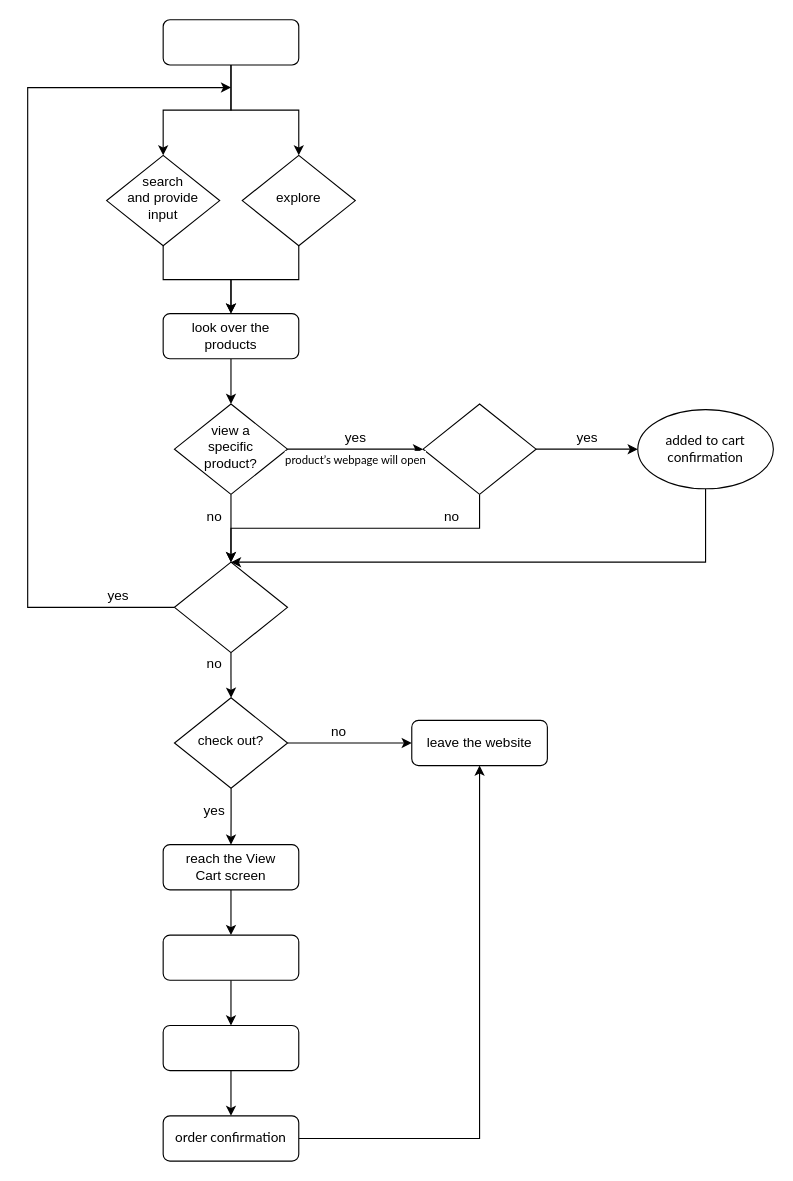
Some shapes in this 793 by 1181 pixel diagram are drawn without their labels. The shapes that lost their labels are listed below. From the top down, each one's box as (x1, y1, x2, y2) in pixels, then its label:
(162, 19, 299, 65): enter the website
(422, 403, 536, 494): add to cart?
(173, 561, 287, 653): continue shopping?
(162, 934, 299, 980): go to the View Payment screen
(162, 1024, 299, 1071): give input of their payment information
